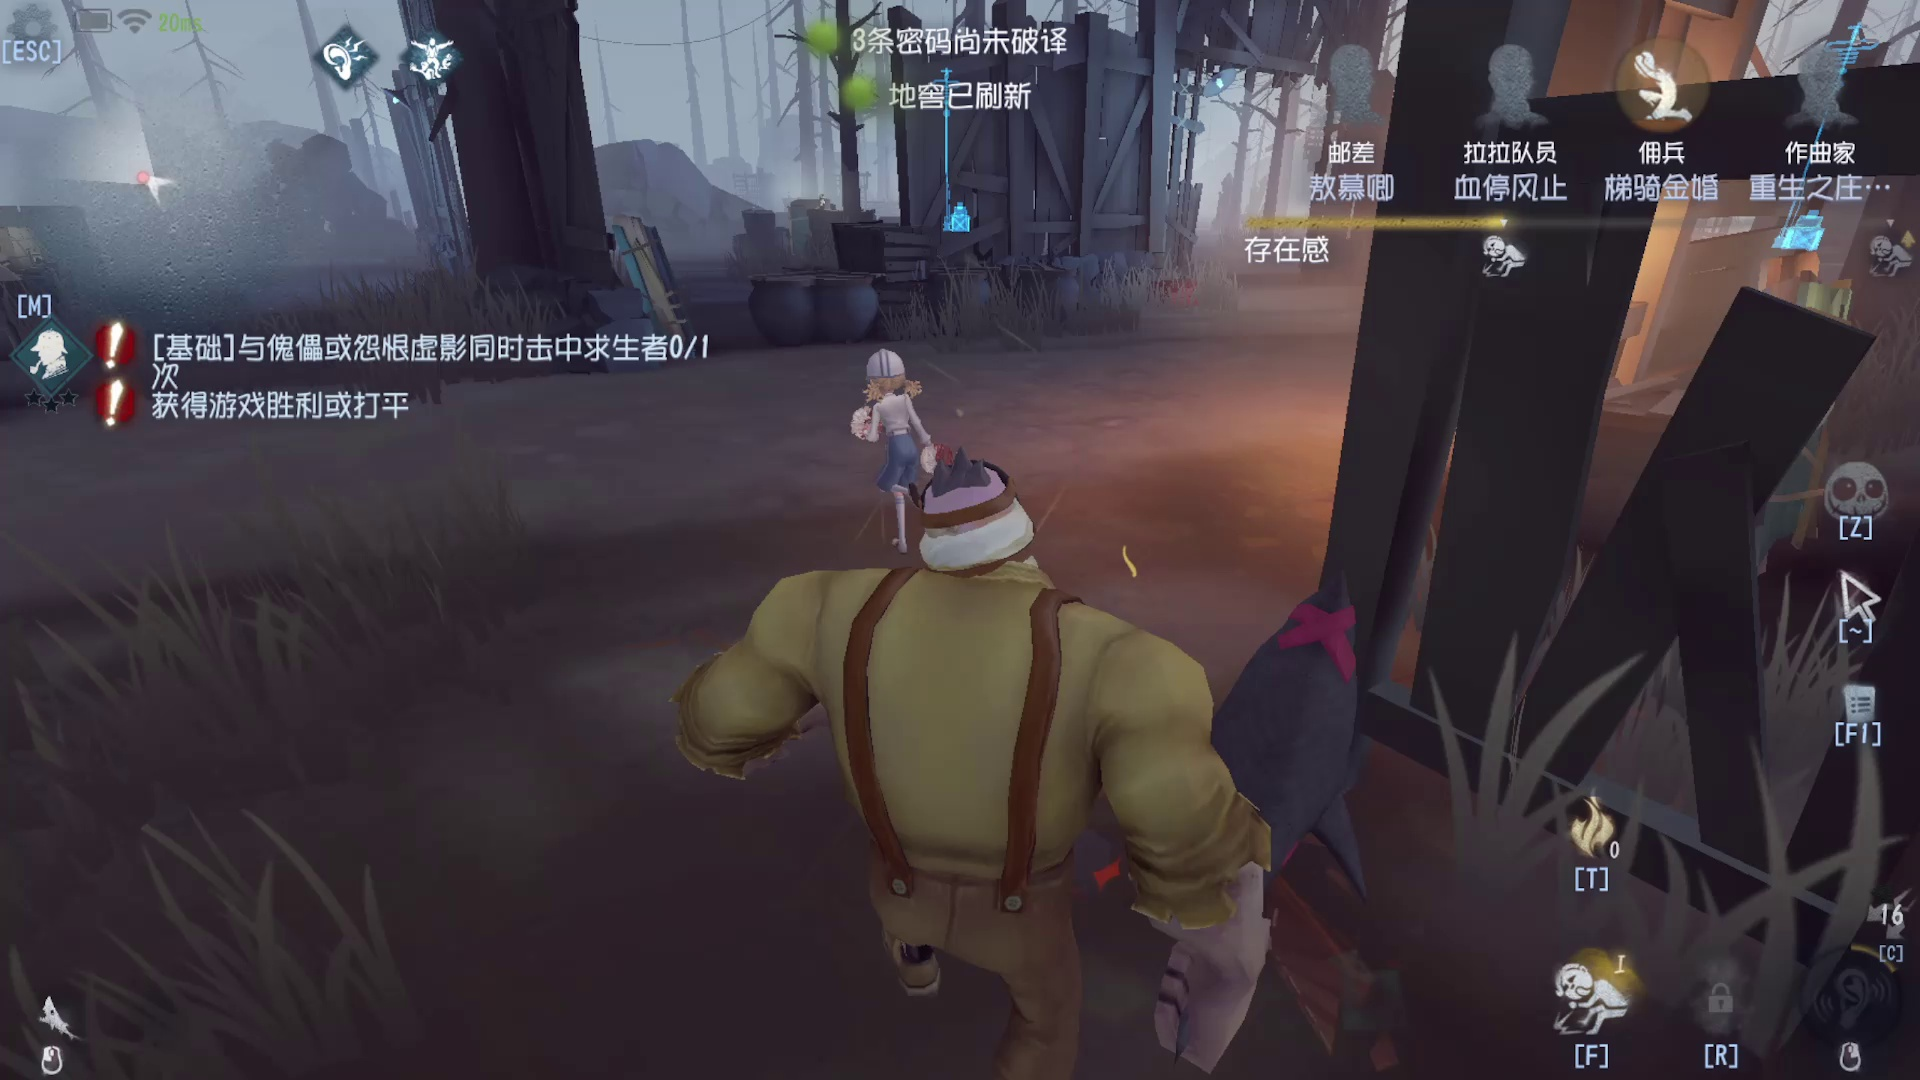密码机: (910, 54, 996, 261)
木板: (593, 200, 694, 364)
求生者: (816, 316, 931, 553)
